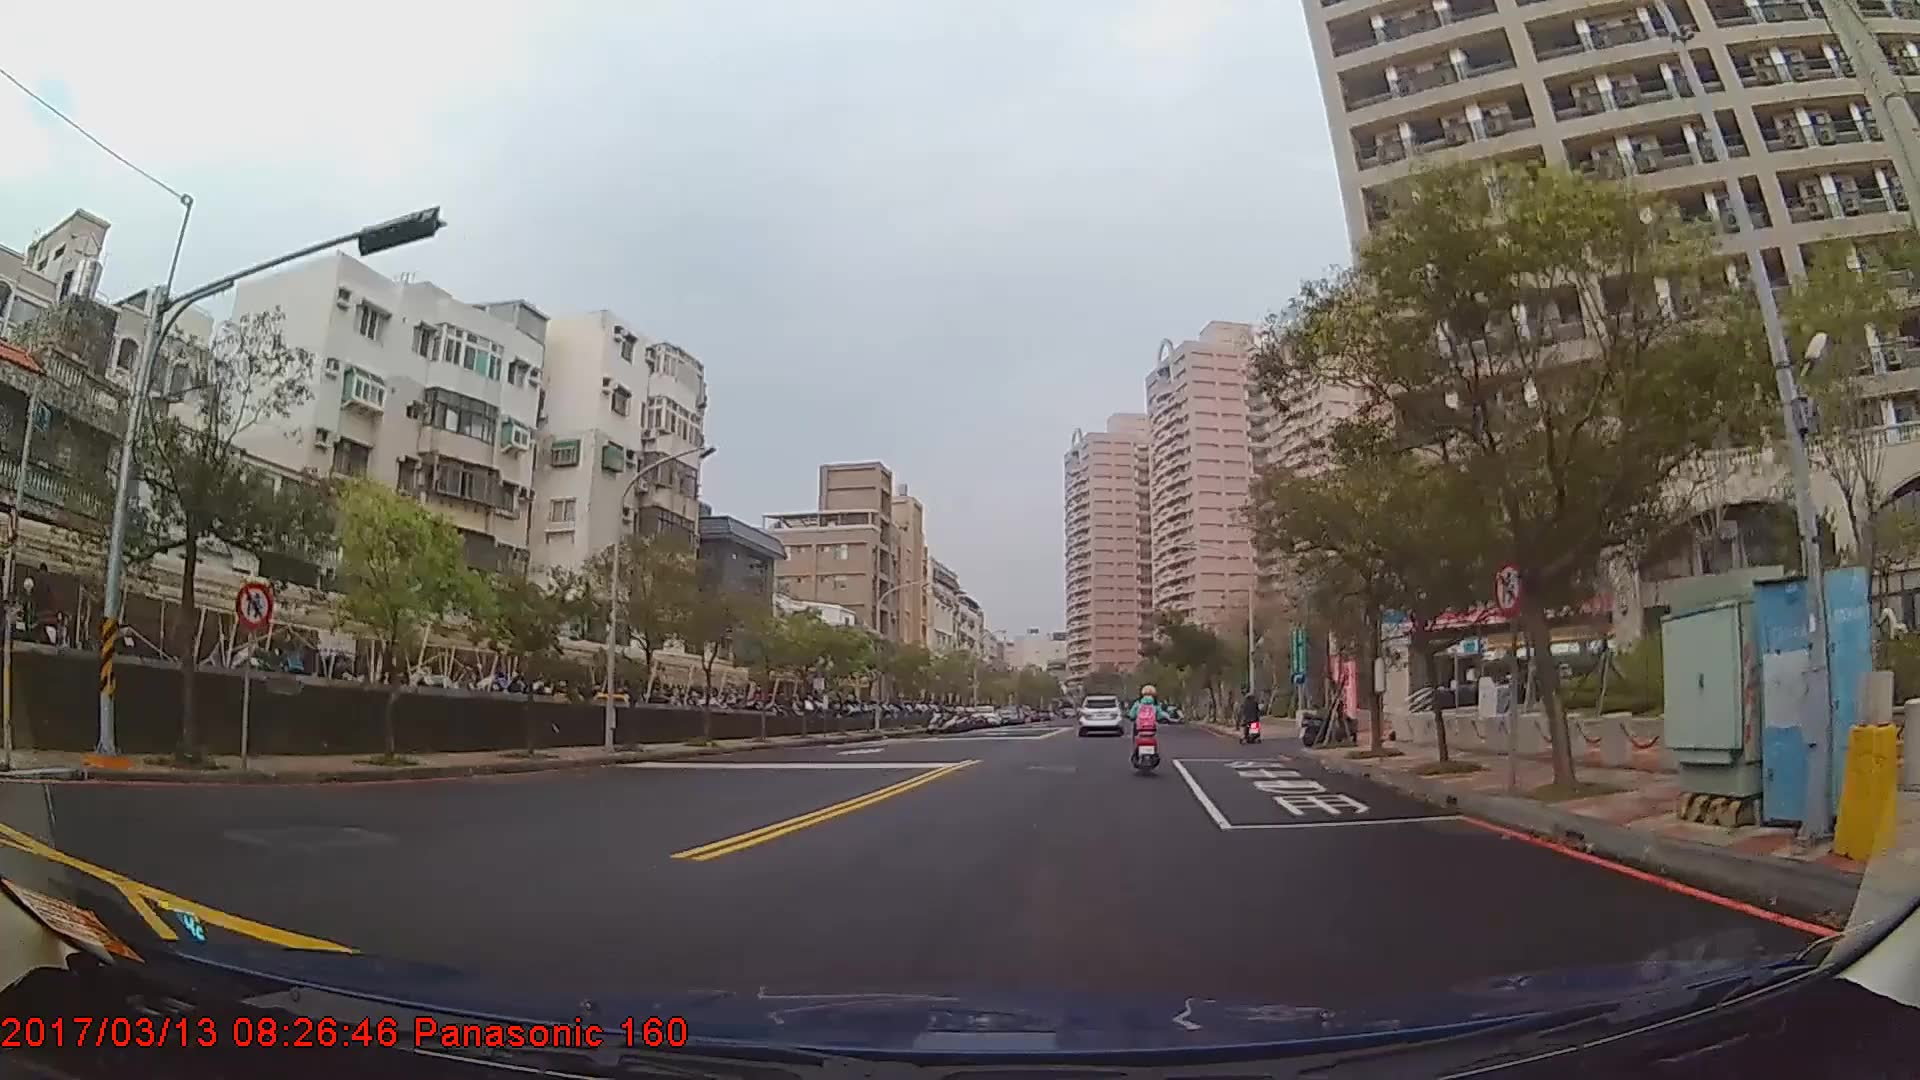rider: (1127, 688, 1176, 774), (1242, 694, 1264, 746)
vehicle: (1076, 696, 1124, 738)
